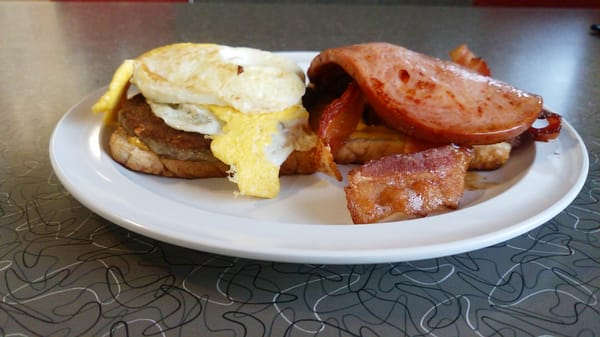soup: (93, 41, 322, 196)
